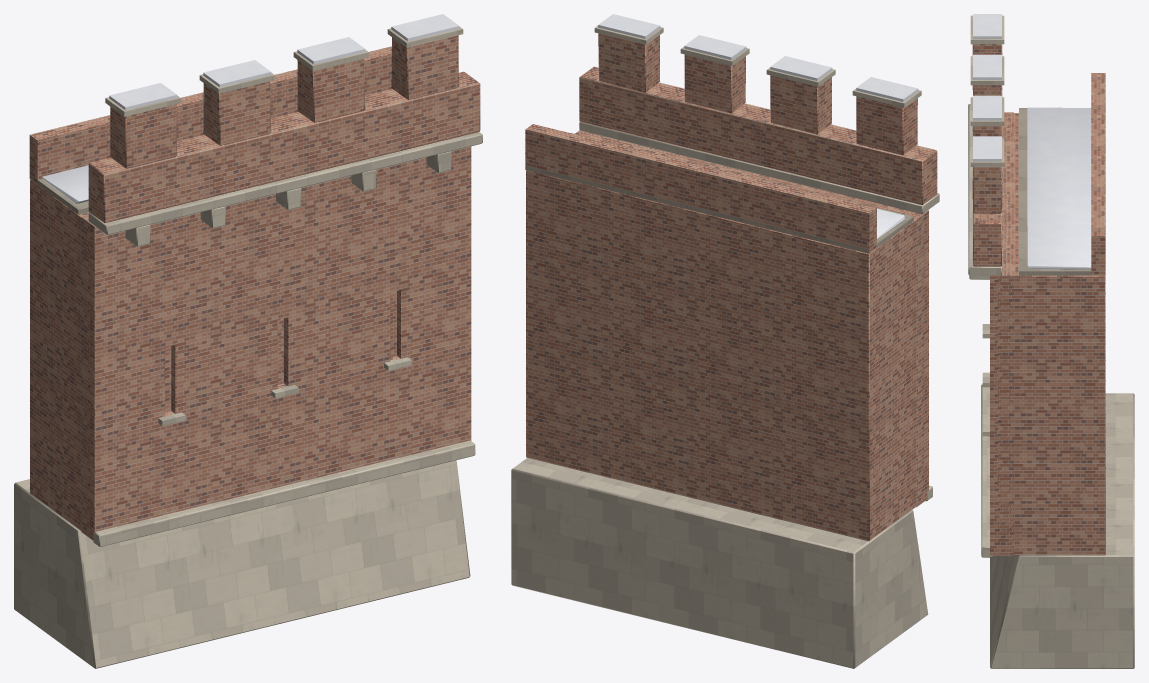
Rendered from wawel_wall.glb.
3 views of the same model, side by side, from view 1: azimuth 30°, elevation 25°; view 2: azimuth 150°, elevation 25°; view 3: azimuth 270°, elevation 25° (orthographic). The views are drawn at different scales.
Parts seen in each view (by area): view 1: wawel_wall; view 2: wawel_wall; view 3: wawel_wall.
Boxes of the visible parts, x1,y1,x2,y2 form: wawel_wall: (14, 14, 482, 668); wawel_wall: (511, 14, 939, 668); wawel_wall: (968, 14, 1134, 668).
Size of what is drawn, in the model's own units: 8 by 11.46 by 3.45.
Materials: 5 (4 with a texture image).
